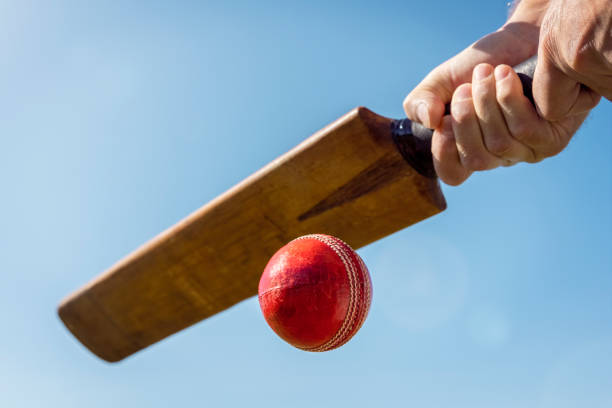bottom left: (32, 290, 84, 329)
bottom right: (87, 345, 141, 383)
top left: (333, 94, 398, 140)
top right: (412, 179, 466, 233)
